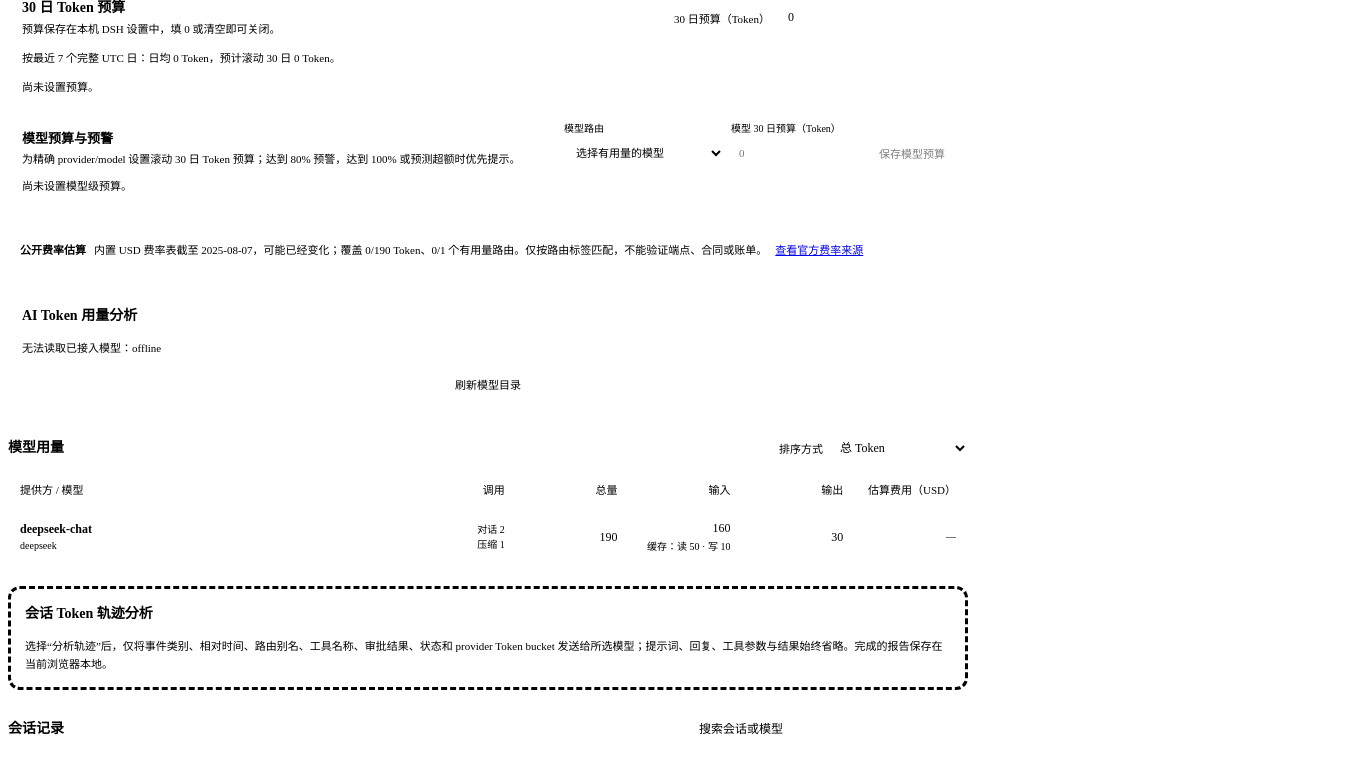
Test: TokenUsageSection › recovers the settings model catalog after a transient RPC failure
The width and height of the screenshot is (1366, 768).
(page scrolled)
Check: the text "无法读取已接入模型：offline" is shown, box [22,342,161,354]
Click the button "刷新模型目录": (488, 384) [22,369,954,399]
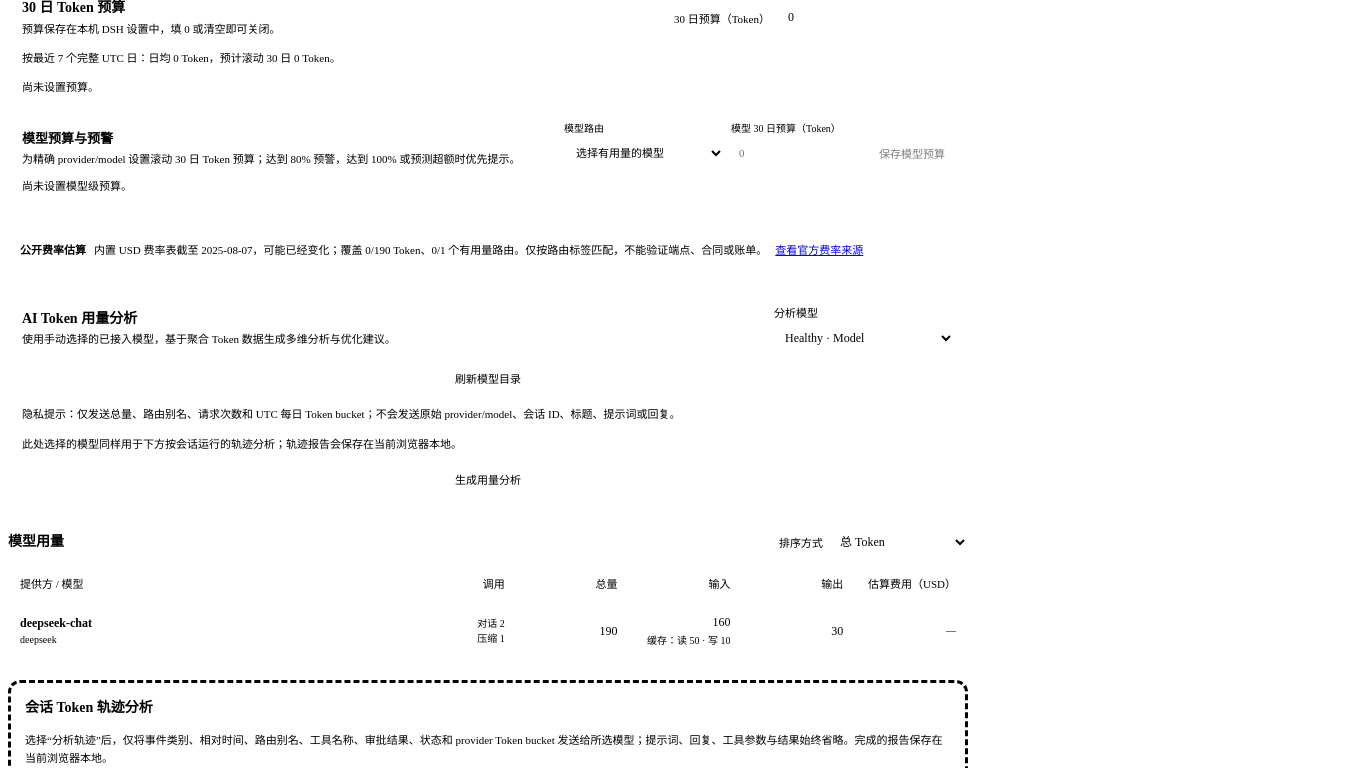
Check: the dropdown labelled "分析模型" is shown, box [774,325,954,351]
